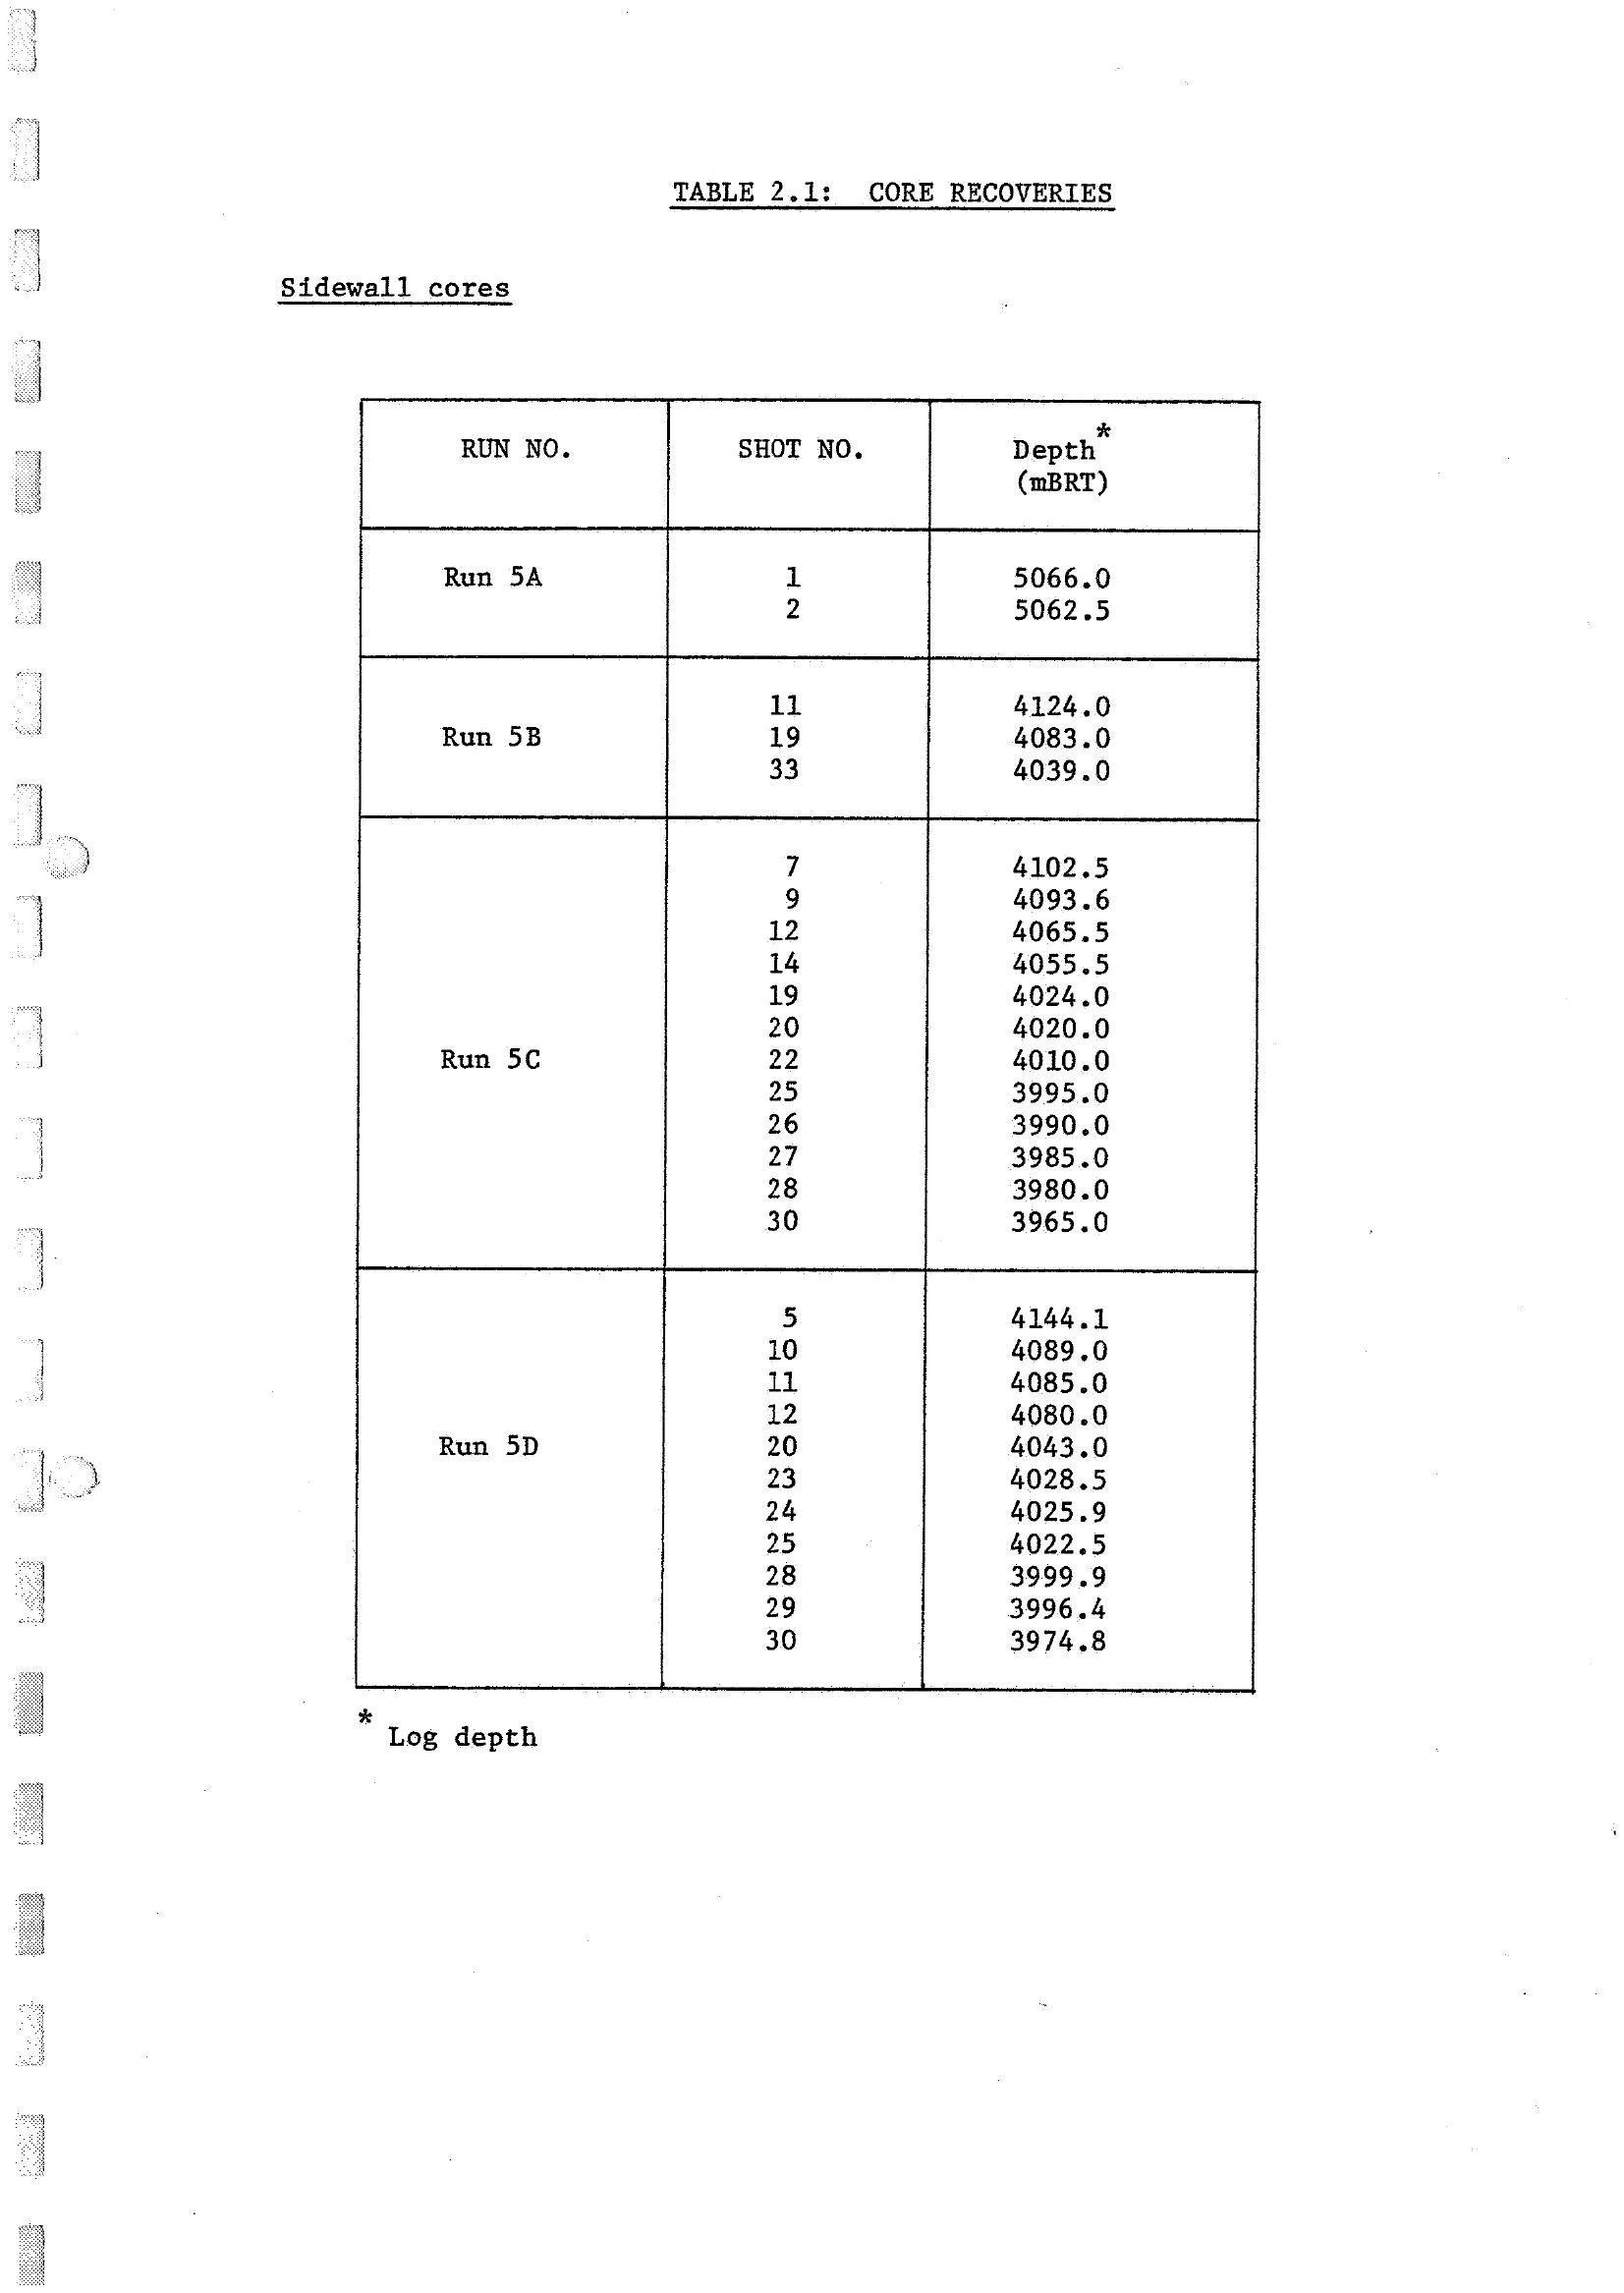table: (251, 255, 1295, 1701)
text: (652, 156, 1146, 230), (350, 1701, 561, 1768)
